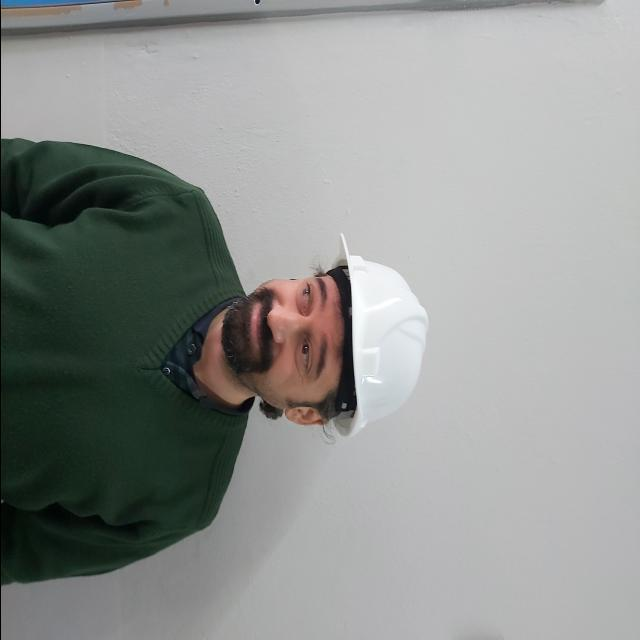helmet: (334, 234, 429, 436)
